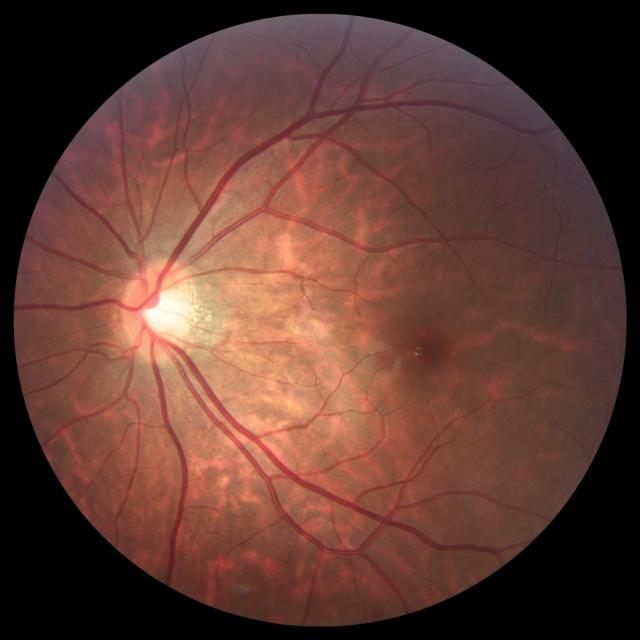OC: (142, 287, 185, 333)
OD: (122, 259, 196, 359)
